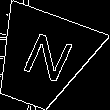N_S: (10, 29, 73, 90)
